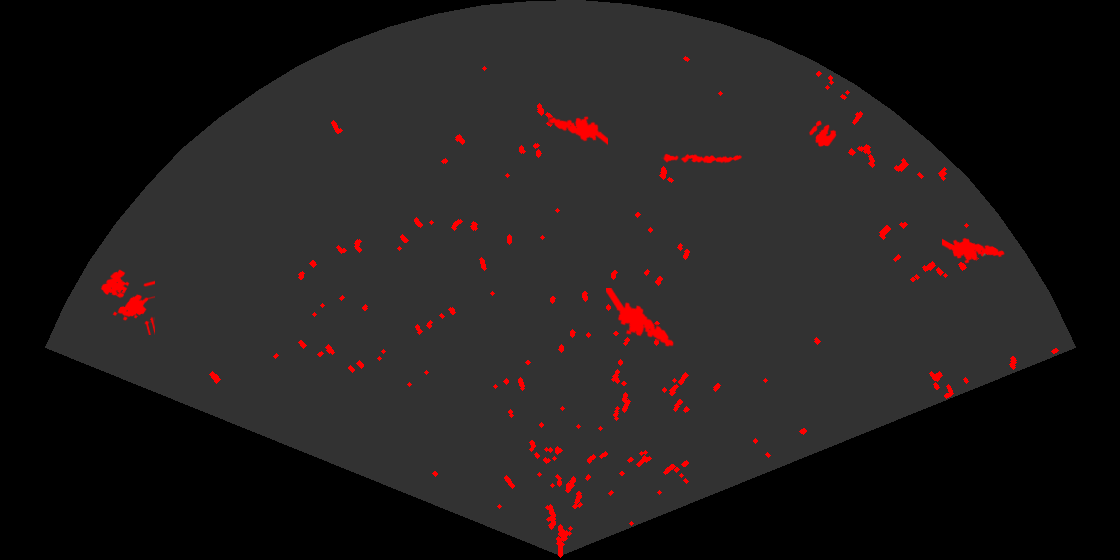ball: (808, 119, 838, 149)
cage: (99, 268, 155, 335)
chain: (661, 152, 742, 165)
frogman: (606, 288, 675, 348), (547, 115, 608, 147), (942, 236, 1006, 265)
